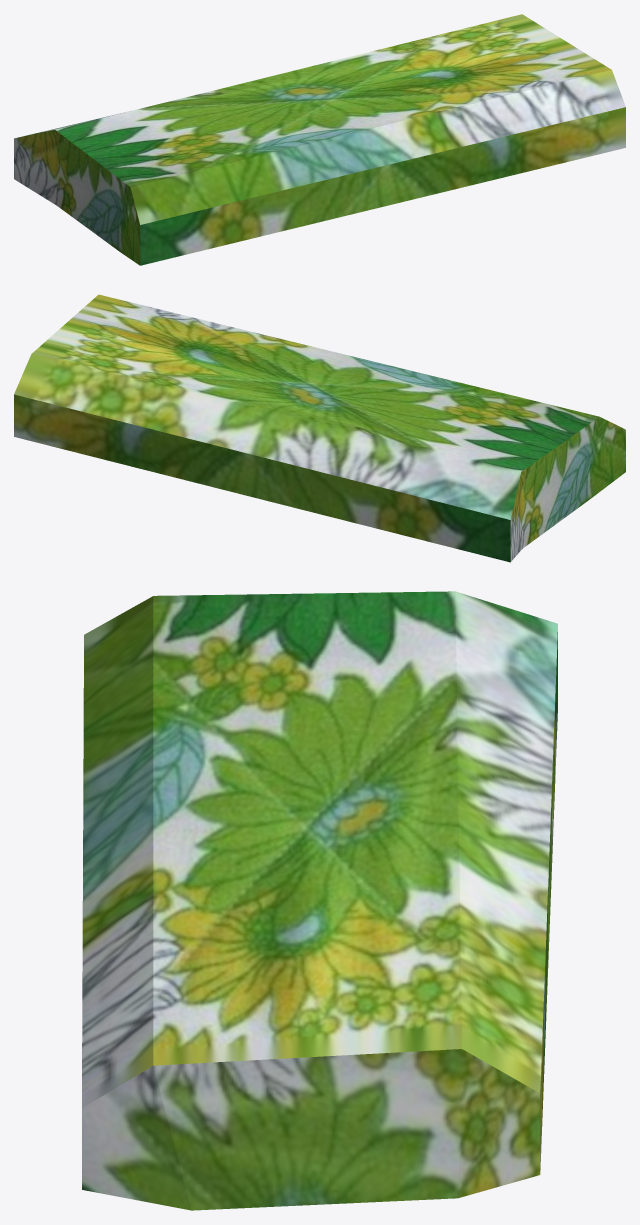
The model's file is Pillow1.fbx.
The picture shows the model from 3 angles, top to bottom: view 1: azimuth 30°, elevation 25°; view 2: azimuth 150°, elevation 25°; view 3: azimuth 270°, elevation 25°; orthographic projection. The views are drawn at different scales.
Parts seen in each view (by area): view 1: Pillow_Mattress; view 2: Pillow_Mattress; view 3: Pillow_Mattress.
Part boxes in pixels (left/top/right/bottom): Pillow_Mattress: left=14, top=14, right=625, bottom=265; Pillow_Mattress: left=14, top=294, right=625, bottom=562; Pillow_Mattress: left=82, top=591, right=557, bottom=1210.
Bounding box in the file's own units: 226 × 32.41 × 93.63.
